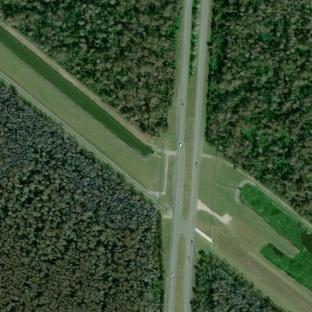Floresta: (0, 83, 164, 312), (0, 0, 179, 135), (205, 0, 312, 220), (190, 250, 287, 312)
